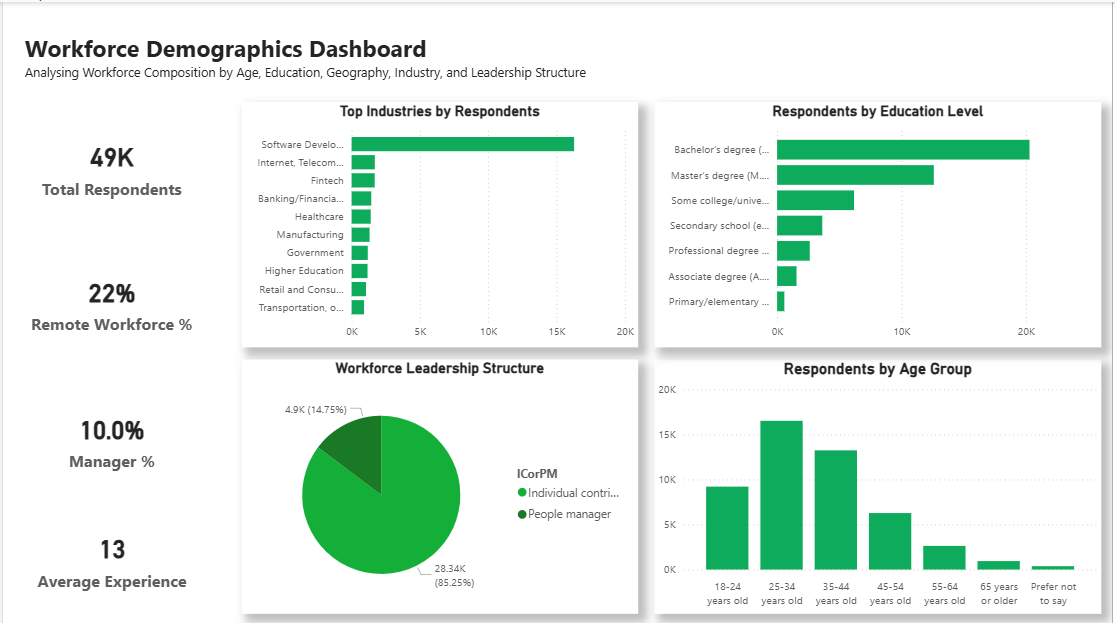

This screenshot's page, from the dashboard's own definition file:
{"tool":"powerbi","page":{"name":"Page 3","canvas":[1280,720],"ordinal":2},"visuals":[{"type":"card","fields":{"Values":["workforce_base.Remote Workforce %"]},"box":[10.7,279.4,231.4,133.5],"z":0},{"type":"card","fields":{"Values":["workforce_base.Manager %"]},"box":[10.7,439.6,231.4,129.9],"z":1000},{"type":"card","fields":{"Values":["workforce_base.Total Respondents"]},"box":[10.7,129.9,231.4,121],"z":2000},{"type":"card","fields":{"Values":["workforce_base.Average Experience"]},"box":[10.1,578.5,232.3,128.4],"z":3000},{"type":"clusteredColumnChart","title":"Respondents by Age Group","fields":{"Category":["workforce_base.Age"],"Y":["CountNonNull(workforce_base.ResponseId)"]},"box":[751.1,412.9,516.1,293.7],"z":4000},{"type":"clusteredBarChart","title":"Respondents by Education Level","fields":{"Category":["workforce_base.EdLevel"],"Y":["CountNonNull(workforce_base.ResponseId)"]},"box":[751.1,115.7,516.1,283],"z":5000},{"type":"clusteredBarChart","title":"Top Industries by Respondents","fields":{"Category":["workforce_base.Industry"],"Y":["CountNonNull(workforce_base.ResponseId)"]},"box":[275.9,115.7,457.4,283],"z":6000},{"type":"pieChart","title":"Workforce Leadership Structure","fields":{"Category":["workforce_base.ICorPM"],"Y":["CountNonNull(workforce_base.ResponseId)"]},"box":[275.9,412.9,457.4,293.7],"z":7000},{"type":"textbox","box":[19.6,30.3,989.6,71.2],"z":8000}]}

Visuals, with their boxes in screenshot pixels (x1, y1, x2, y2), scaled from the page's 1280x720 canvas onto the 1115x623 screenshot:
card - workforce_base.Remote Workforce %: [9, 242, 211, 357]
card - workforce_base.Manager %: [9, 380, 211, 493]
card - workforce_base.Total Respondents: [9, 112, 211, 217]
card - workforce_base.Average Experience: [9, 501, 211, 612]
"Respondents by Age Group" clusteredColumnChart: [654, 357, 1104, 611]
"Respondents by Education Level" clusteredBarChart: [654, 100, 1104, 345]
"Top Industries by Respondents" clusteredBarChart: [240, 100, 639, 345]
"Workforce Leadership Structure" pieChart: [240, 357, 639, 611]
textbox: [17, 26, 879, 88]
